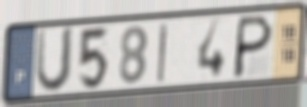4: (196, 16, 229, 82)
5: (75, 23, 111, 91)
8: (118, 24, 150, 86)
I: (156, 21, 171, 85)
P: (230, 11, 276, 80)
U: (33, 24, 77, 96)
